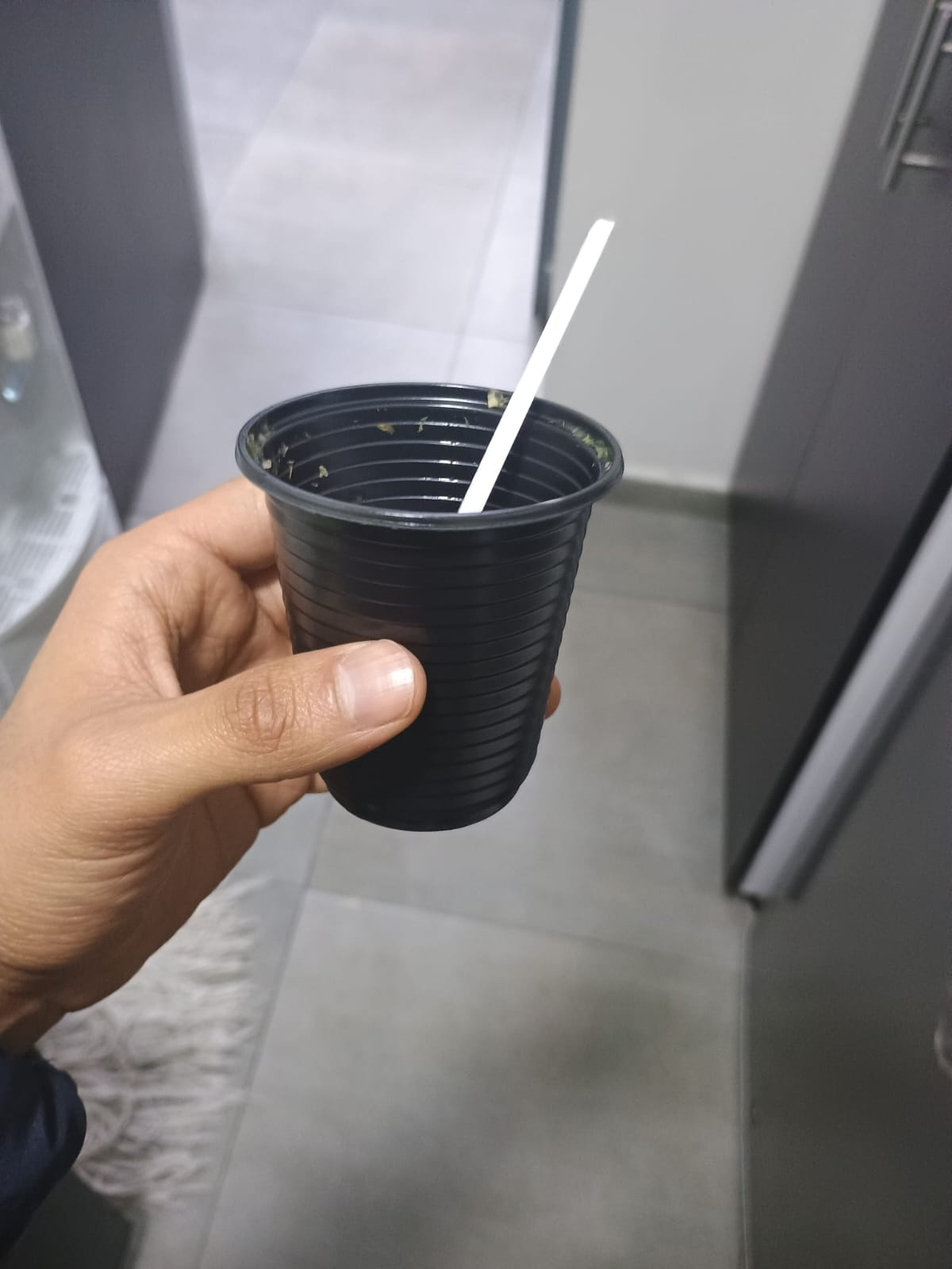Plastico: (235, 377, 627, 834)
